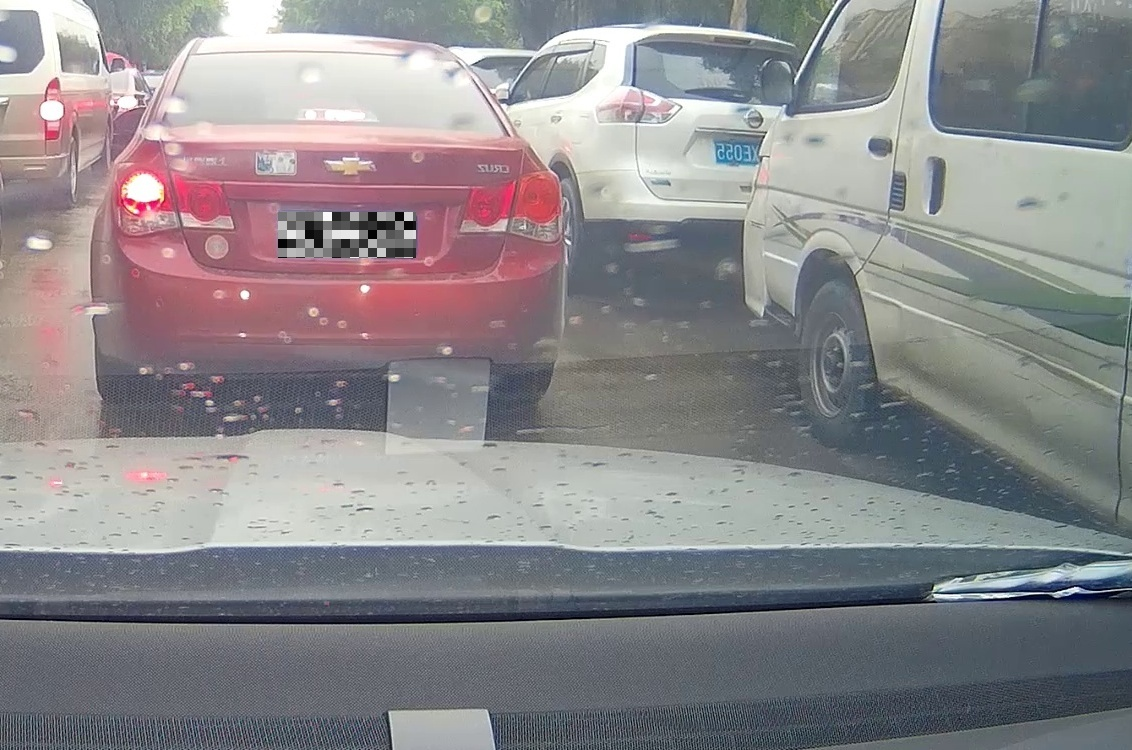L_light: (112, 163, 236, 237)
R_light: (458, 169, 562, 243)
T_light: (301, 108, 367, 121)
day-left: (89, 32, 566, 404)
plate_1: (278, 212, 416, 258)
